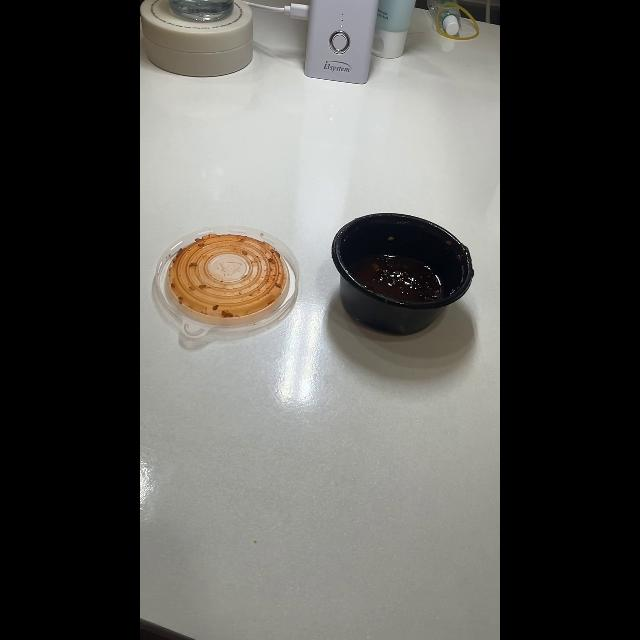dirty: (334, 209, 478, 331), (158, 228, 302, 340)
